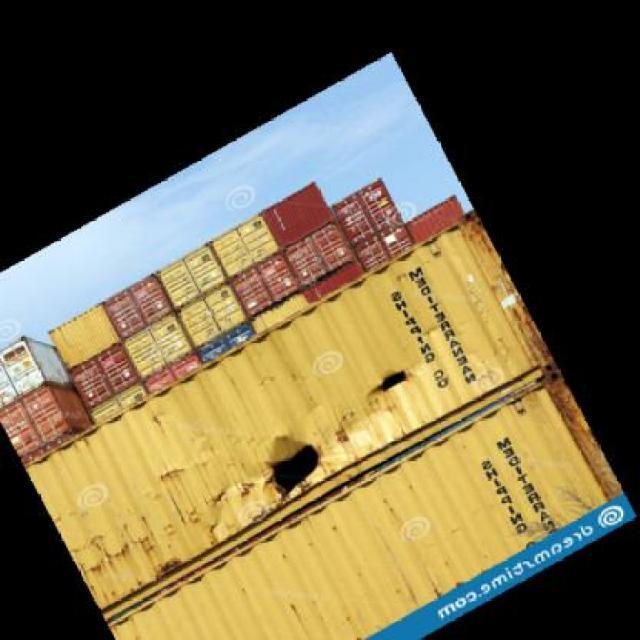hole: (232, 435, 341, 513), (353, 358, 407, 415)
rust: (92, 479, 241, 601)
